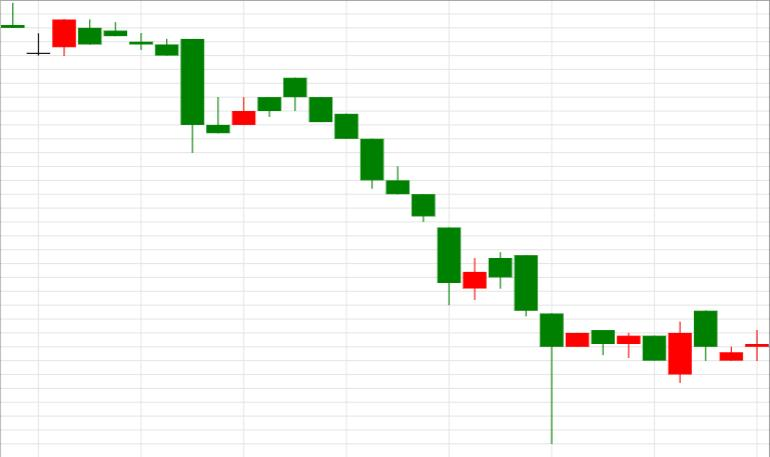hammer_rise: (284, 78, 563, 444)
